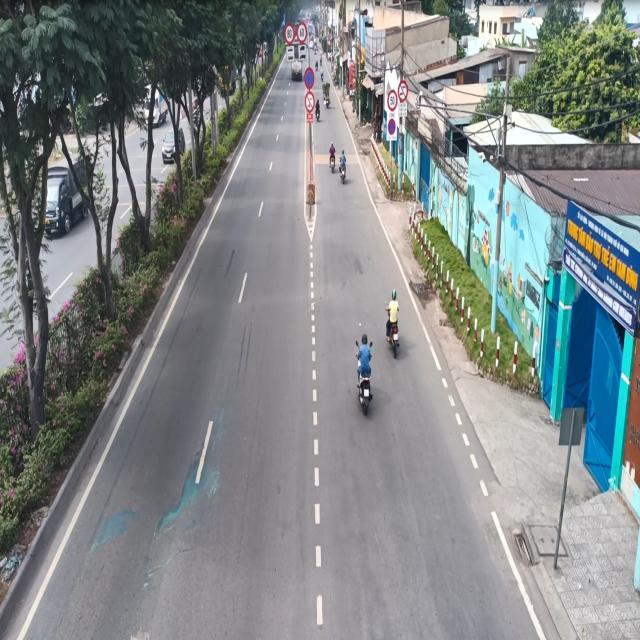motor: (351, 330, 376, 421), (386, 284, 405, 353), (328, 137, 336, 178)
